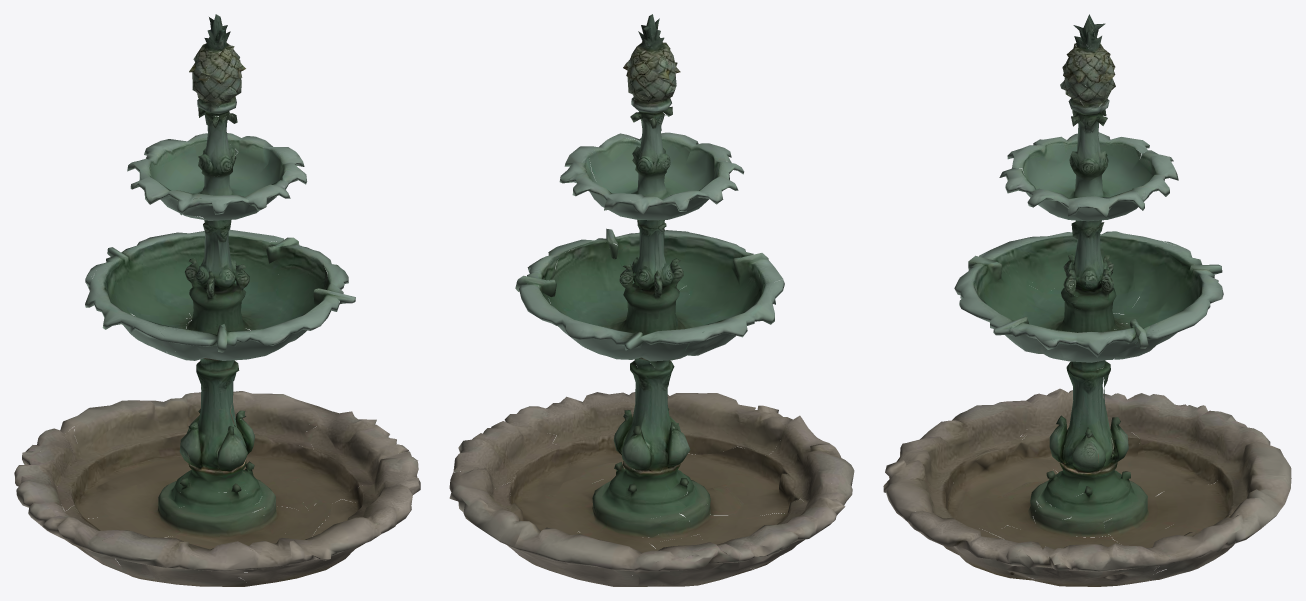
The model's file is cp_fountain.glb.
The picture shows the model from 3 angles, left to right: view 1: azimuth 30°, elevation 25°; view 2: azimuth 150°, elevation 25°; view 3: azimuth 270°, elevation 25°; orthographic projection.
Parts seen in each view (by area): view 1: tripo_node_d2d749d0-3ca9-4267-a802-466ffa89b04b; view 2: tripo_node_d2d749d0-3ca9-4267-a802-466ffa89b04b; view 3: tripo_node_d2d749d0-3ca9-4267-a802-466ffa89b04b.
Boxes of the visible parts, left/top/right/bottom form: tripo_node_d2d749d0-3ca9-4267-a802-466ffa89b04b: left=14, top=14, right=420, bottom=586; tripo_node_d2d749d0-3ca9-4267-a802-466ffa89b04b: left=449, top=14, right=854, bottom=586; tripo_node_d2d749d0-3ca9-4267-a802-466ffa89b04b: left=883, top=14, right=1291, bottom=586.
Size of the model in its own units: 0.7224 by 0.9989 by 0.7221.
1 material, 1 textured.
